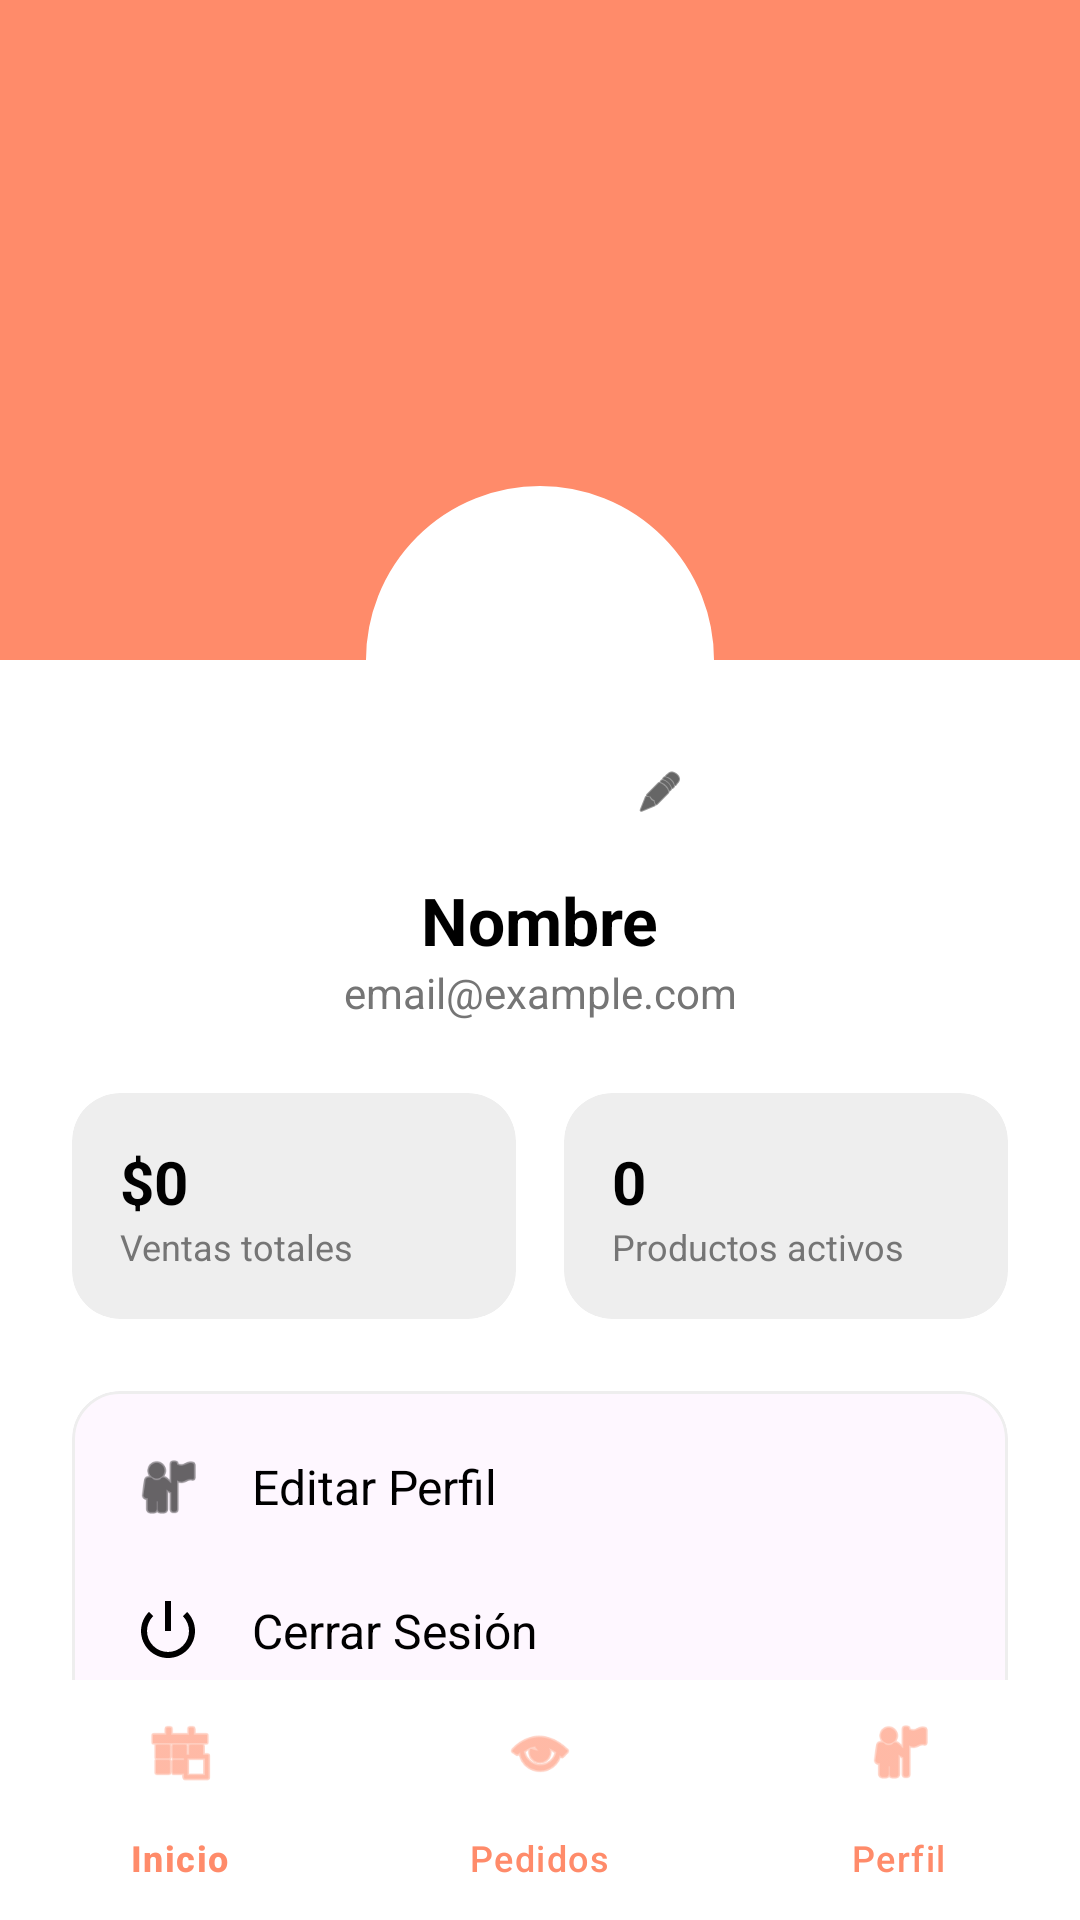

Icon click points for this 1080×1920 phone screenshot, format (x=x, y=y):
edit: (x=659, y=791)
